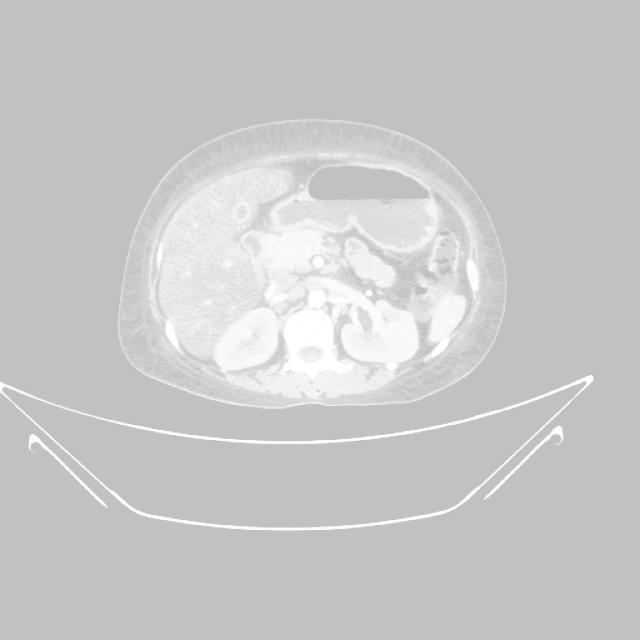NORMAL: (127, 145, 476, 406)
